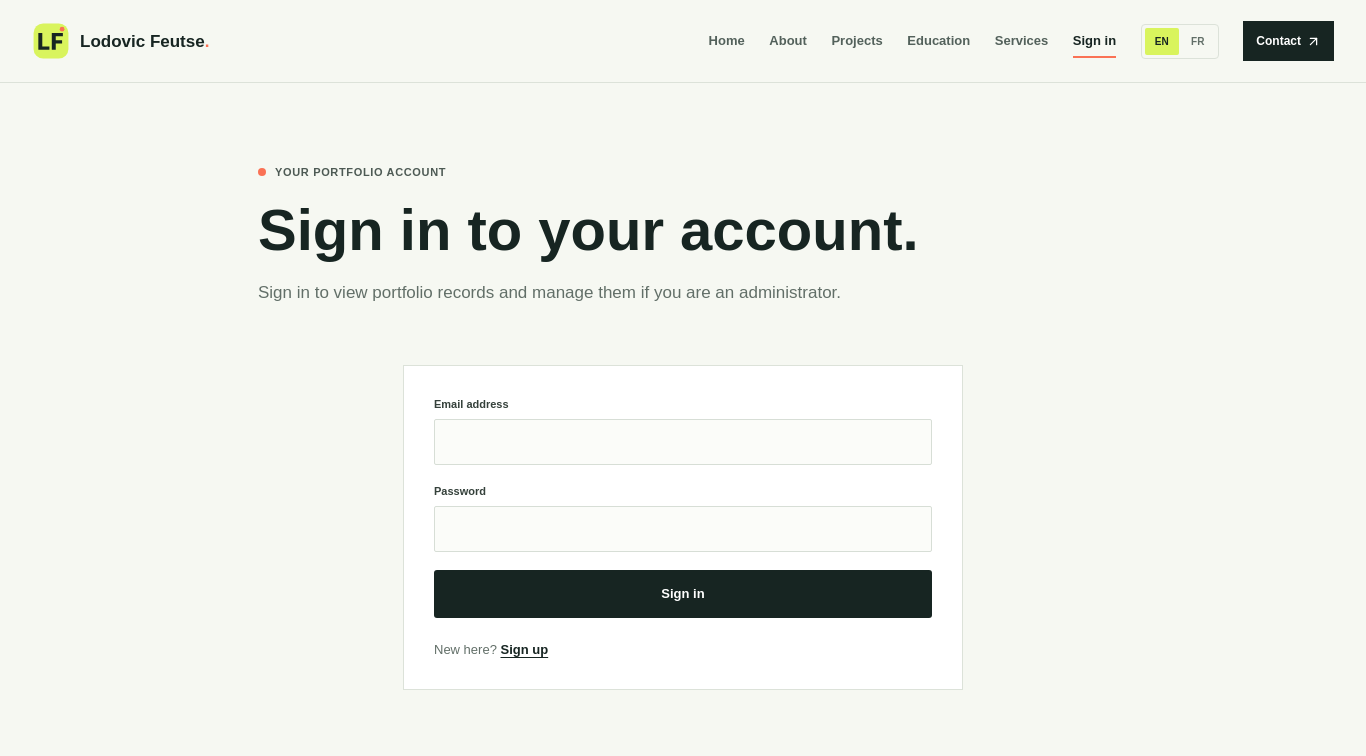
Test: authentication and dashboard › explains sign-in failure for HTTP 400
This screenshot has width=1366, height=756.
In the field labelled "Email address": (683, 442) [434, 419, 932, 465], type "alex@example.test"
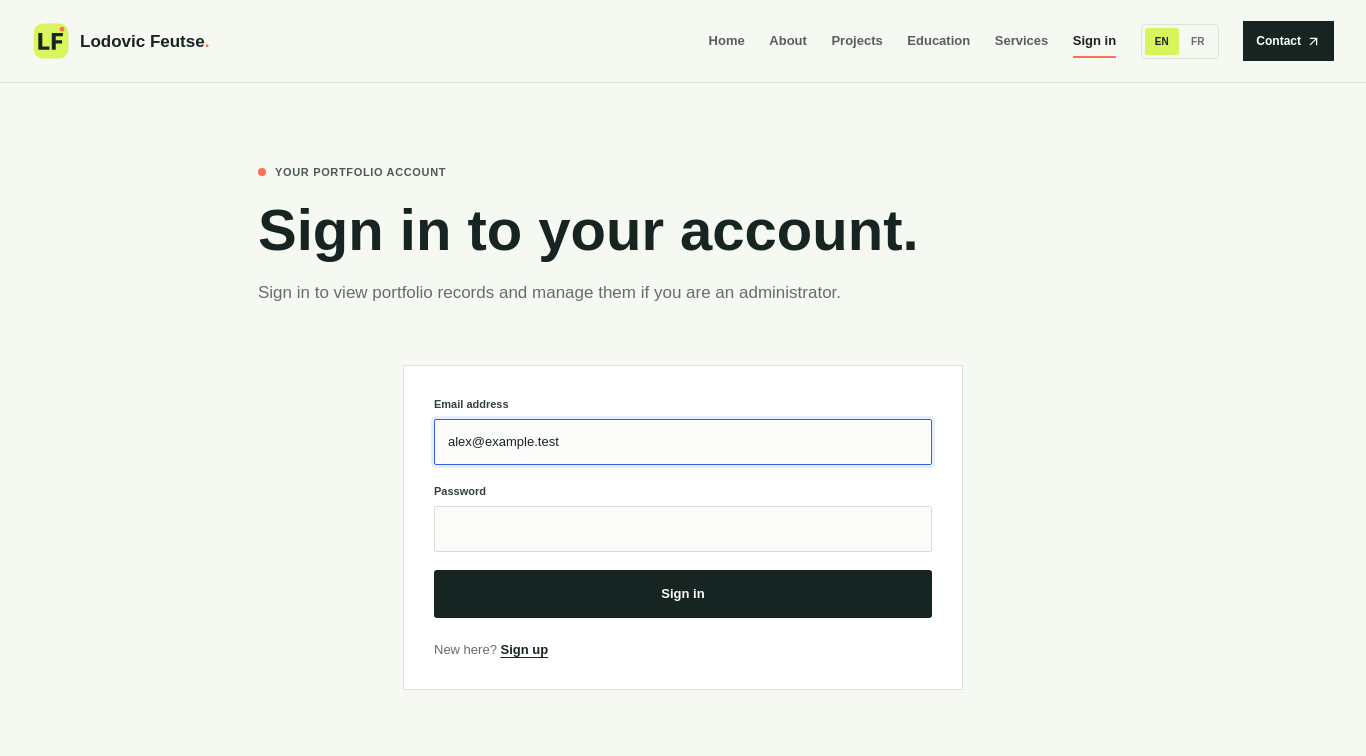
In the password field labelled "Password": (683, 529) [434, 506, 932, 552], type "password"
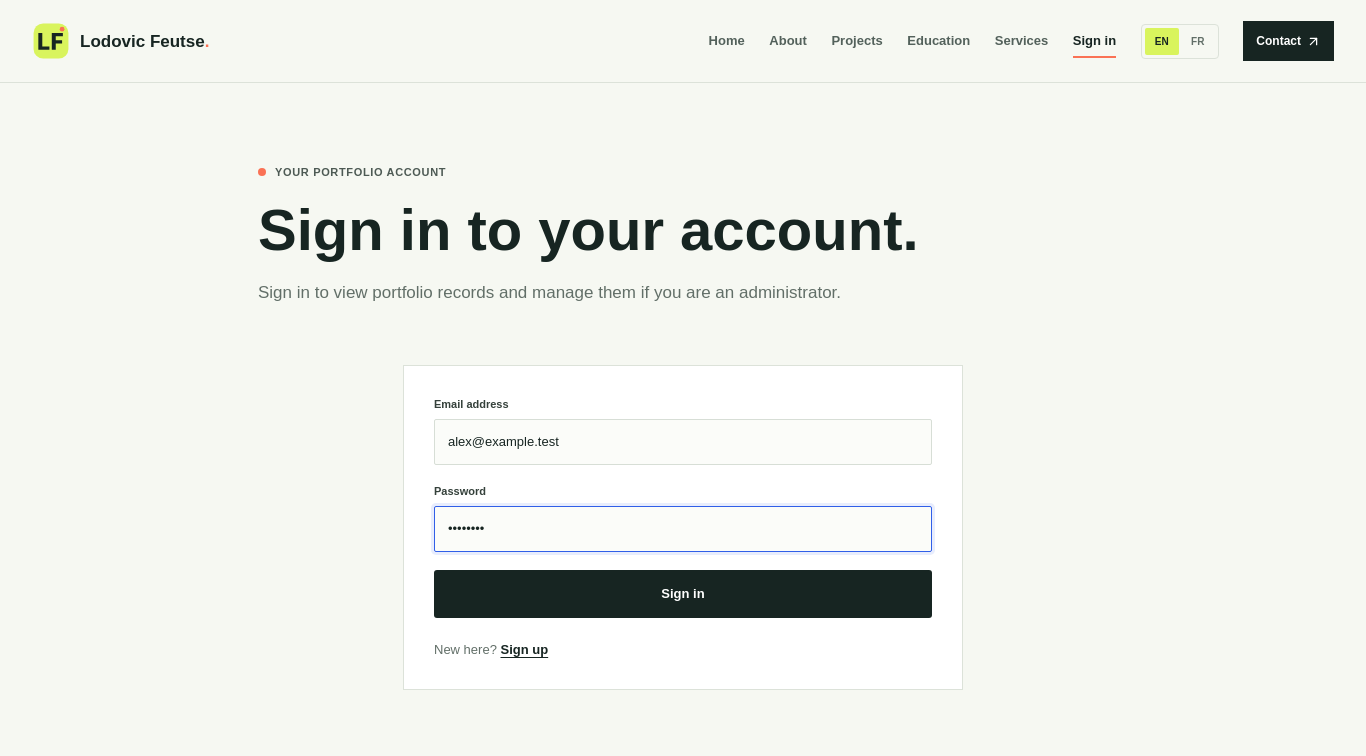
Click the button "Sign in": (683, 594) [434, 570, 932, 618]
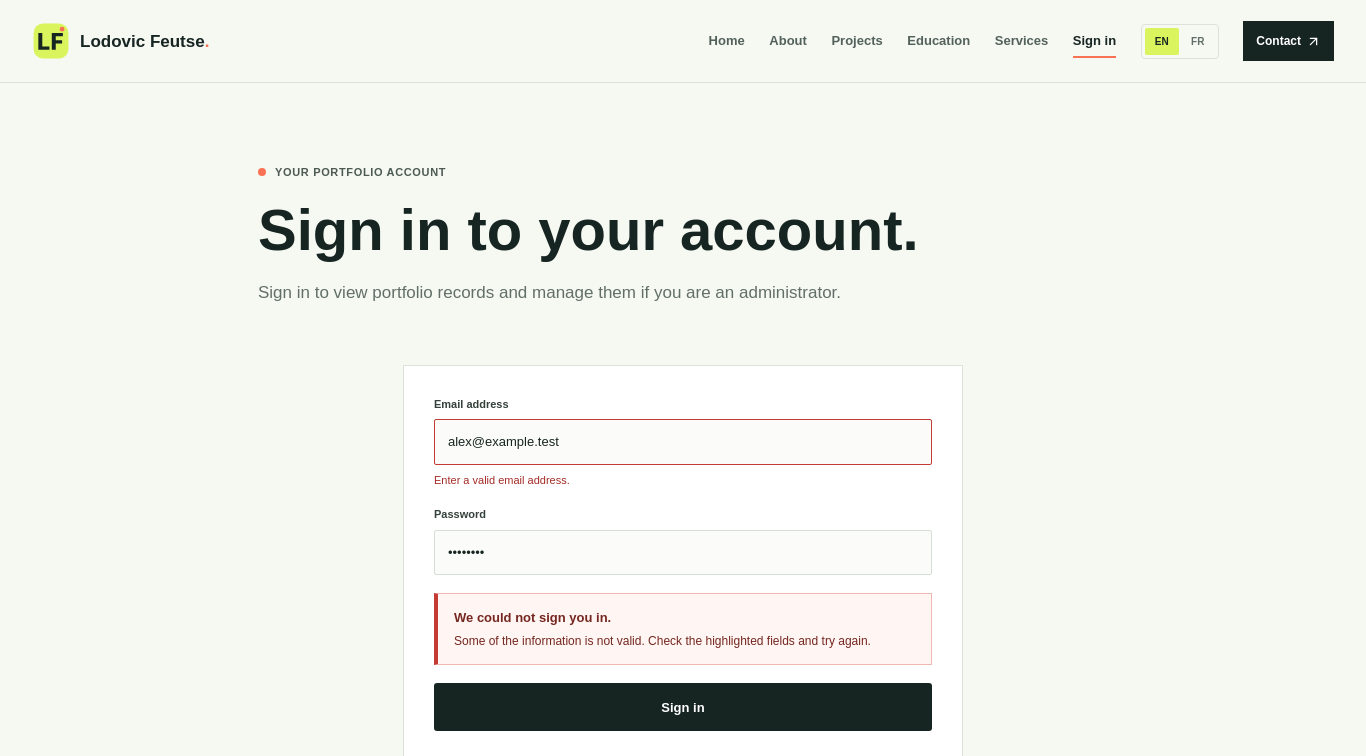
Expected: the message shows "Some of the information is not valid", [454, 634, 871, 648]
Expected: the text "Enter a valid email address." is shown, [434, 474, 570, 486]
